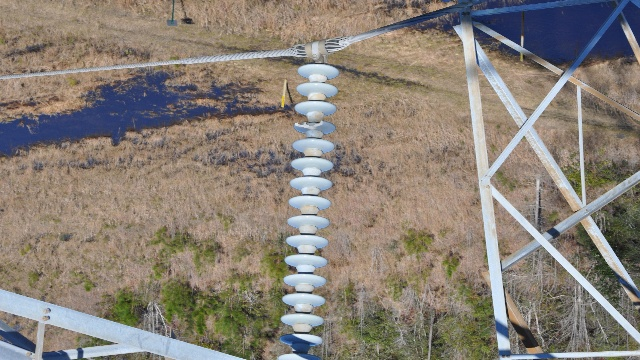broken_local: (294, 120, 326, 128)
insulator_unspecified: (276, 62, 340, 359)
